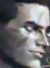kevin: (8, 5, 49, 67)
